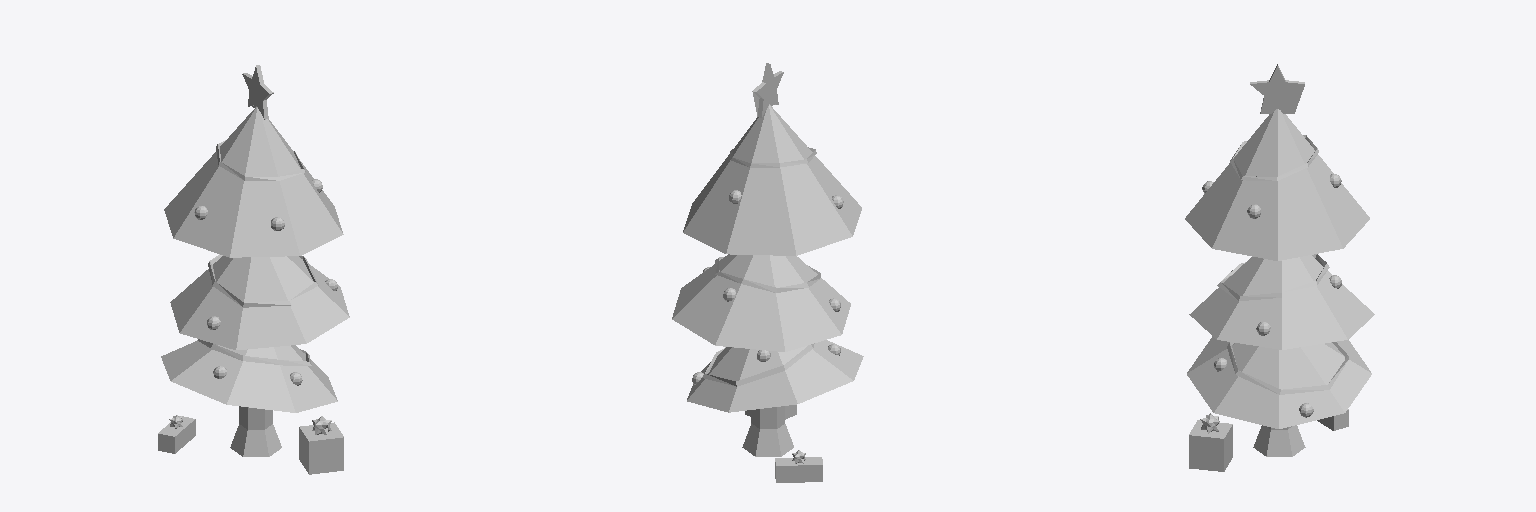
The model's file is xmastree4.obj.
The picture shows the model from 3 angles: view 1: azimuth 30°, elevation 25°; view 2: azimuth 150°, elevation 25°; view 3: azimuth 270°, elevation 25°; orthographic projection.
Parts seen in each view (by area): view 1: Present_Cube.001; view 2: Present_Cube.001; view 3: Present_Cube.001.
Boxes of the visible parts, x1=… form: Present_Cube.001: x1=158, y1=65, x2=349, y2=474; Present_Cube.001: x1=672, y1=63, x2=863, y2=482; Present_Cube.001: x1=1185, y1=64, x2=1374, y2=471.
Size of the model in its own units: 11.67 by 24.91 by 11.25.